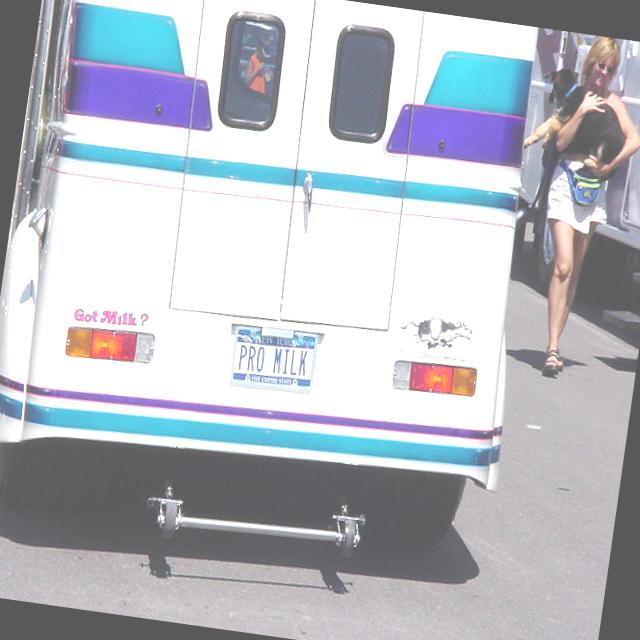Vehicle: (0, 0, 559, 578)
